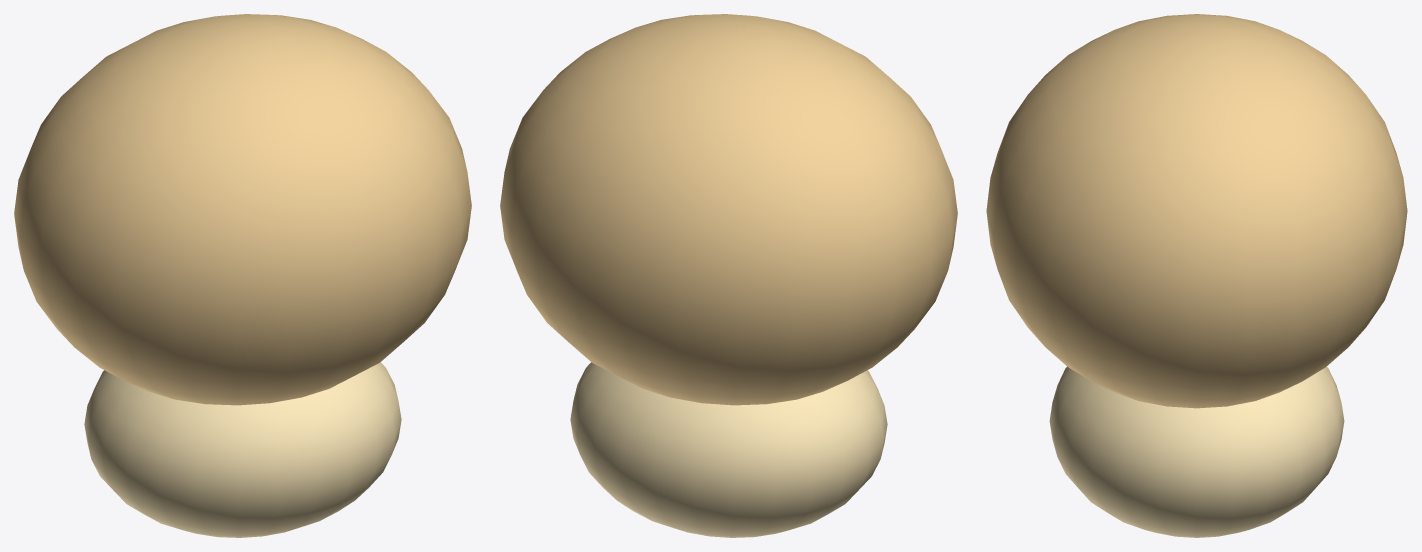
Rendered from ribosome.glb.
3 views of the same model, side by side, from view 1: azimuth 30°, elevation 25°; view 2: azimuth 150°, elevation 25°; view 3: azimuth 270°, elevation 25° (orthographic).
Parts seen in each view (by area): view 1: large_sub, small_sub; view 2: large_sub, small_sub; view 3: large_sub, small_sub.
Part boxes in pixels (box(x1,y1,x2,y2)): large_sub: box(14, 14, 471, 405); small_sub: box(84, 362, 401, 537); large_sub: box(500, 14, 957, 405); small_sub: box(570, 362, 887, 537); large_sub: box(986, 14, 1407, 408); small_sub: box(1049, 366, 1344, 537).
Bounding box in the file's own units: 1.1 × 1.25 × 1.
